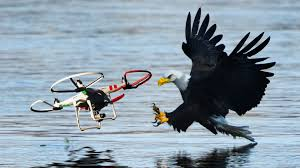Bird: (150, 7, 277, 144)
Drone: (26, 66, 153, 132)
